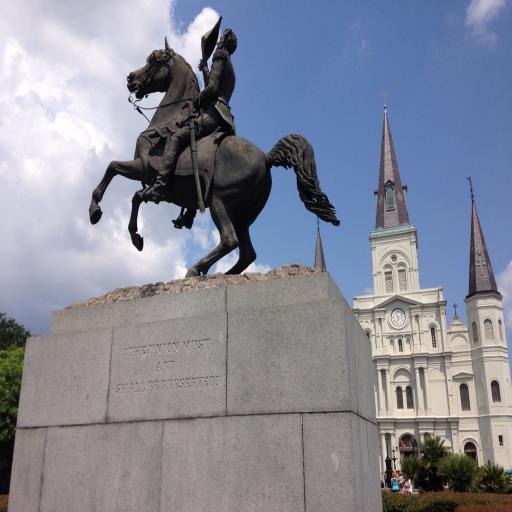horse: (88, 36, 342, 275)
